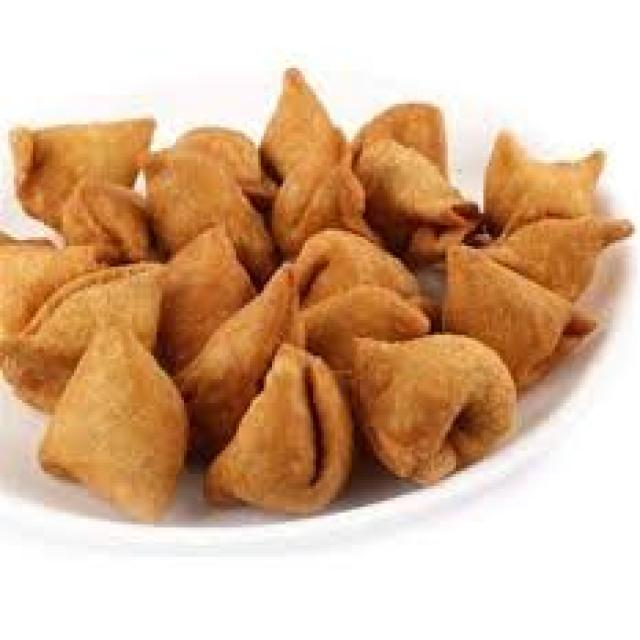SAMOSA: (44, 329, 187, 519), (206, 344, 349, 513), (354, 335, 514, 480), (3, 267, 162, 409), (261, 71, 363, 255), (179, 270, 288, 441), (148, 139, 272, 279), (442, 246, 569, 382), (14, 119, 151, 228), (159, 228, 255, 370), (481, 216, 629, 299), (354, 139, 459, 243), (483, 130, 599, 222), (302, 287, 426, 367), (261, 71, 341, 178), (305, 228, 418, 302), (0, 246, 96, 329), (63, 175, 151, 258), (360, 104, 445, 178), (176, 127, 261, 187)
